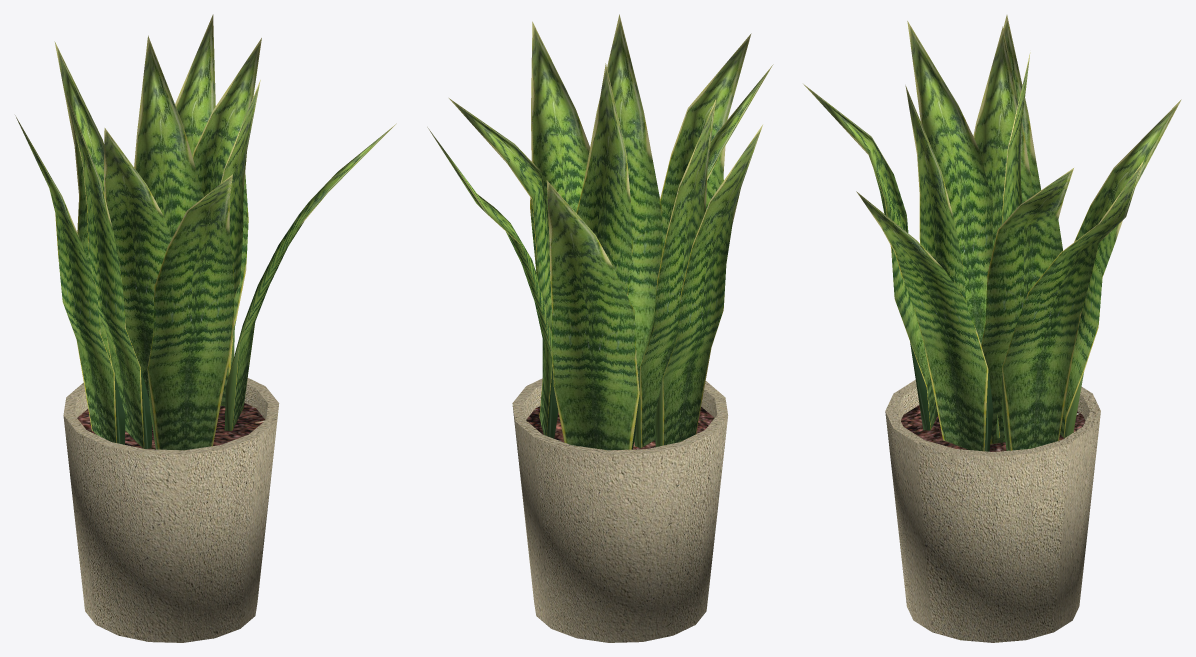
File: Plant1.fbx
3 renders of one model, left to right at view 1: azimuth 30°, elevation 25°; view 2: azimuth 150°, elevation 25°; view 3: azimuth 270°, elevation 25°, orthographic.
Parts seen in each view (by area): view 1: Pot, SnakePlant leaf.008, SnakePlant leaf, SnakePlant leaf.005, SnakePlant leaf.001, SnakePlant leaf.004, SnakePlant leaf.002, SnakePlant leaf.007, SnakePlant leaf.009, SnakePlant leaf.006, SnakePlant leaf.003; view 2: Pot, SnakePlant leaf.006, SnakePlant leaf.005, SnakePlant leaf.003, SnakePlant leaf.001, SnakePlant leaf.004, SnakePlant leaf.007, SnakePlant leaf.008, SnakePlant leaf.002, SnakePlant leaf.009, SnakePlant leaf; view 3: Pot, SnakePlant leaf.009, SnakePlant leaf.007, SnakePlant leaf, SnakePlant leaf.002, SnakePlant leaf.006, SnakePlant leaf.001, SnakePlant leaf.008, SnakePlant leaf.003, SnakePlant leaf.004, SnakePlant leaf.005.
Part boxes in pixels (left/top/right/bottom): Pot: left=63, top=378, right=279, bottom=642; SnakePlant leaf.008: left=147, top=174, right=234, bottom=450; SnakePlant leaf: left=104, top=128, right=171, bottom=398; SnakePlant leaf.005: left=15, top=115, right=125, bottom=444; SnakePlant leaf.001: left=66, top=92, right=151, bottom=448; SnakePlant leaf.004: left=134, top=35, right=203, bottom=237; SnakePlant leaf.002: left=192, top=38, right=261, bottom=340; SnakePlant leaf.007: left=224, top=123, right=396, bottom=430; SnakePlant leaf.009: left=175, top=14, right=234, bottom=406; SnakePlant leaf.006: left=54, top=41, right=110, bottom=361; SnakePlant leaf.003: left=220, top=80, right=260, bottom=297; Pot: left=512, top=378, right=728, bottom=642; SnakePlant leaf.006: left=546, top=180, right=639, bottom=450; SnakePlant leaf.005: left=654, top=125, right=762, bottom=446; SnakePlant leaf.003: left=583, top=14, right=662, bottom=376; SnakePlant leaf.001: left=634, top=99, right=715, bottom=447; SnakePlant leaf.004: left=576, top=63, right=632, bottom=296; SnakePlant leaf.007: left=530, top=21, right=589, bottom=276; SnakePlant leaf.008: left=660, top=33, right=751, bottom=252; SnakePlant leaf.002: left=449, top=98, right=551, bottom=333; SnakePlant leaf.009: left=427, top=127, right=558, bottom=438; SnakePlant leaf: left=642, top=64, right=773, bottom=366; Pot: left=885, top=380, right=1100, bottom=642; SnakePlant leaf.009: left=1002, top=160, right=1143, bottom=450; SnakePlant leaf.007: left=856, top=191, right=993, bottom=451; SnakePlant leaf: left=907, top=21, right=992, bottom=344; SnakePlant leaf.002: left=981, top=168, right=1073, bottom=444; SnakePlant leaf.006: left=1060, top=99, right=1181, bottom=437; SnakePlant leaf.001: left=973, top=26, right=1033, bottom=249; SnakePlant leaf.008: left=803, top=84, right=937, bottom=430; SnakePlant leaf.003: left=905, top=85, right=966, bottom=303; SnakePlant leaf.004: left=995, top=52, right=1030, bottom=438; SnakePlant leaf.005: left=1003, top=15, right=1040, bottom=194.
Size of the model in its own units: 81.51 by 142 by 88.03.
